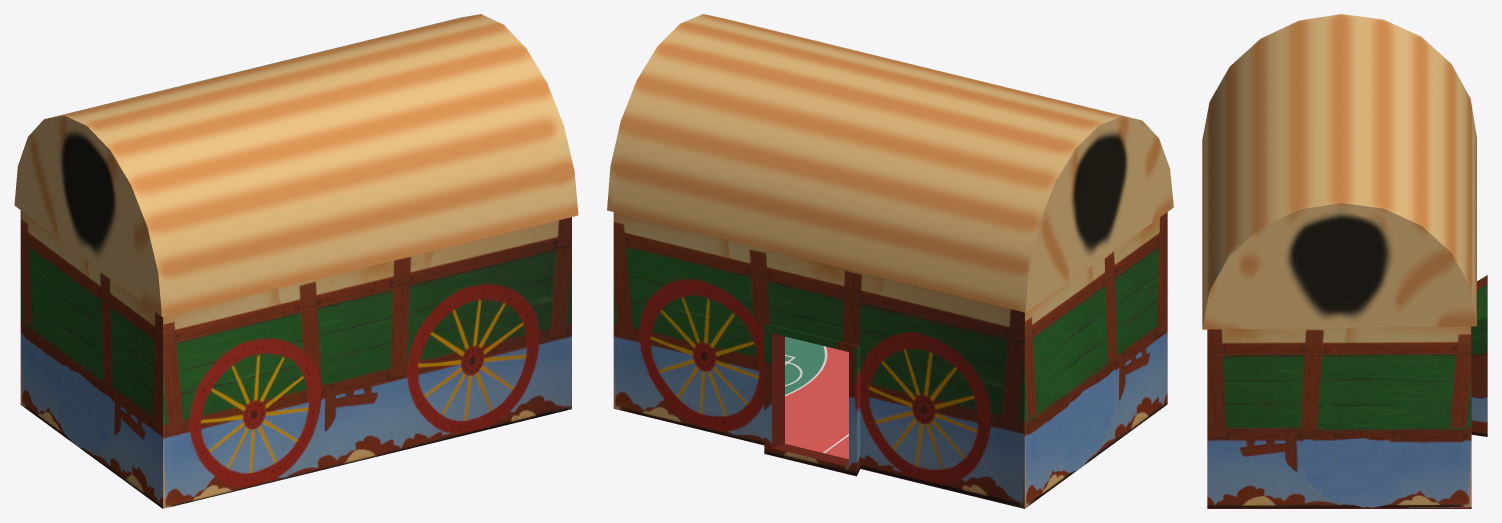
Rendered from toybox 1.fbx.
3 views of the same model, side by side, from view 1: azimuth 30°, elevation 25°; view 2: azimuth 150°, elevation 25°; view 3: azimuth 270°, elevation 25° (orthographic). The views are drawn at different scales.
Parts seen in each view (by area): view 1: Plane; view 2: Plane; view 3: Plane.
Part boxes in pixels (box(x1,y1,x2,y2)): Plane: box(14, 14, 578, 508); Plane: box(607, 14, 1173, 508); Plane: box(1202, 14, 1487, 508).
Size of the model in its own units: 594 by 451 by 379.
Materials: 6 (2 with a texture image).
